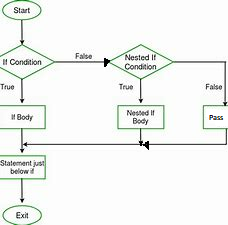arrow: (171, 59, 228, 107), (142, 127, 228, 147), (21, 140, 144, 147), (52, 57, 111, 67), (18, 18, 26, 46), (18, 128, 26, 154), (19, 176, 25, 203), (19, 77, 25, 103), (137, 127, 144, 147), (138, 78, 143, 103)
decision: (107, 43, 174, 80), (1, 44, 55, 80)
process: (116, 104, 166, 131), (1, 153, 48, 180), (1, 104, 47, 131), (201, 104, 228, 131)
terminator: (1, 1, 43, 21), (1, 205, 43, 225)
text: (1, 159, 45, 175), (124, 53, 158, 72), (125, 109, 156, 126), (1, 57, 43, 67), (10, 112, 34, 123), (12, 5, 31, 15), (15, 209, 30, 221), (73, 52, 93, 60), (205, 83, 223, 91), (118, 83, 135, 91), (207, 113, 224, 121), (1, 82, 16, 91)
